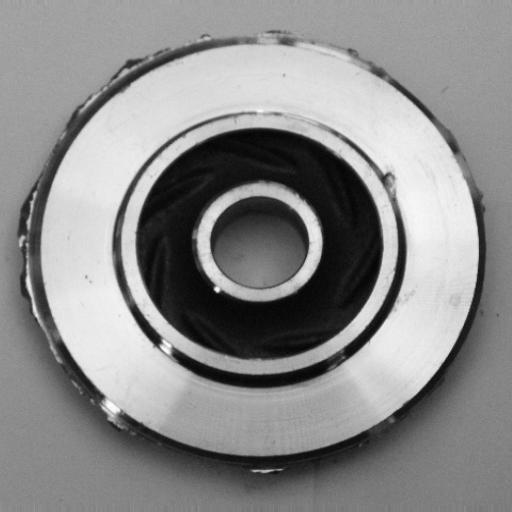casting_with_burr: (17, 26, 489, 479)
crack: (369, 157, 409, 212)
scratch: (138, 309, 200, 370), (229, 99, 344, 130)
